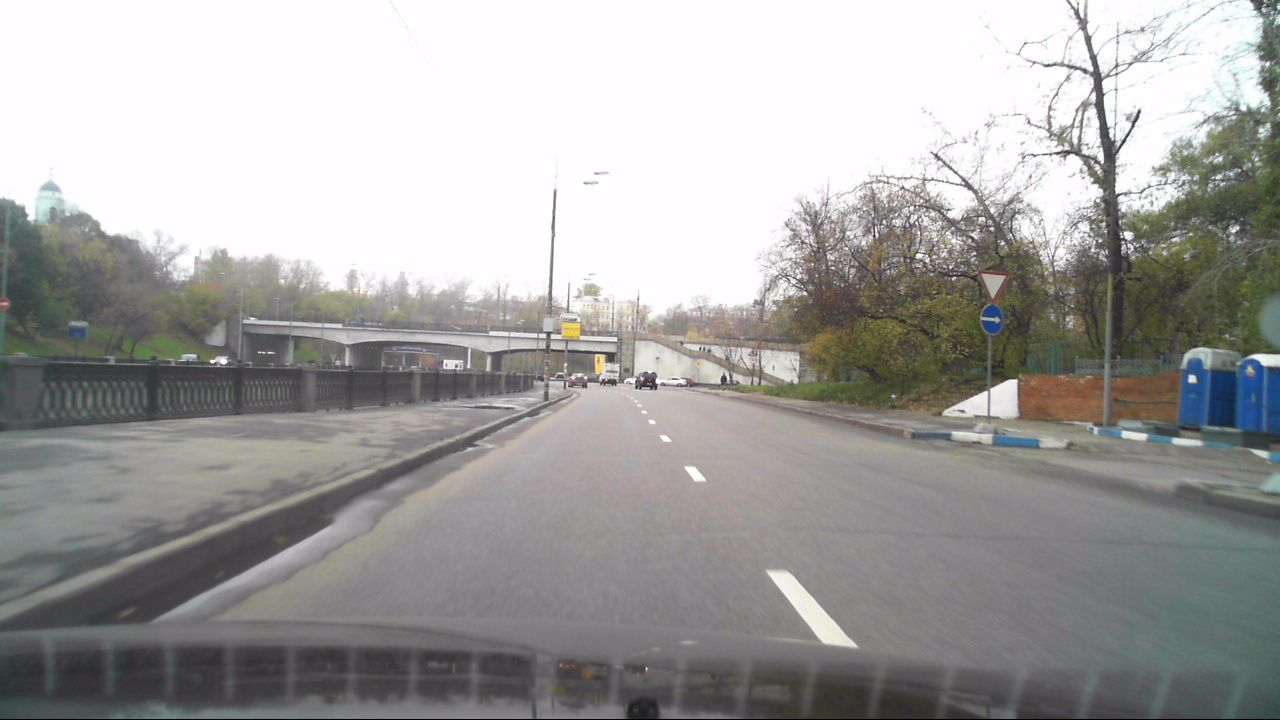Turn Right: (980, 304, 1004, 336)
